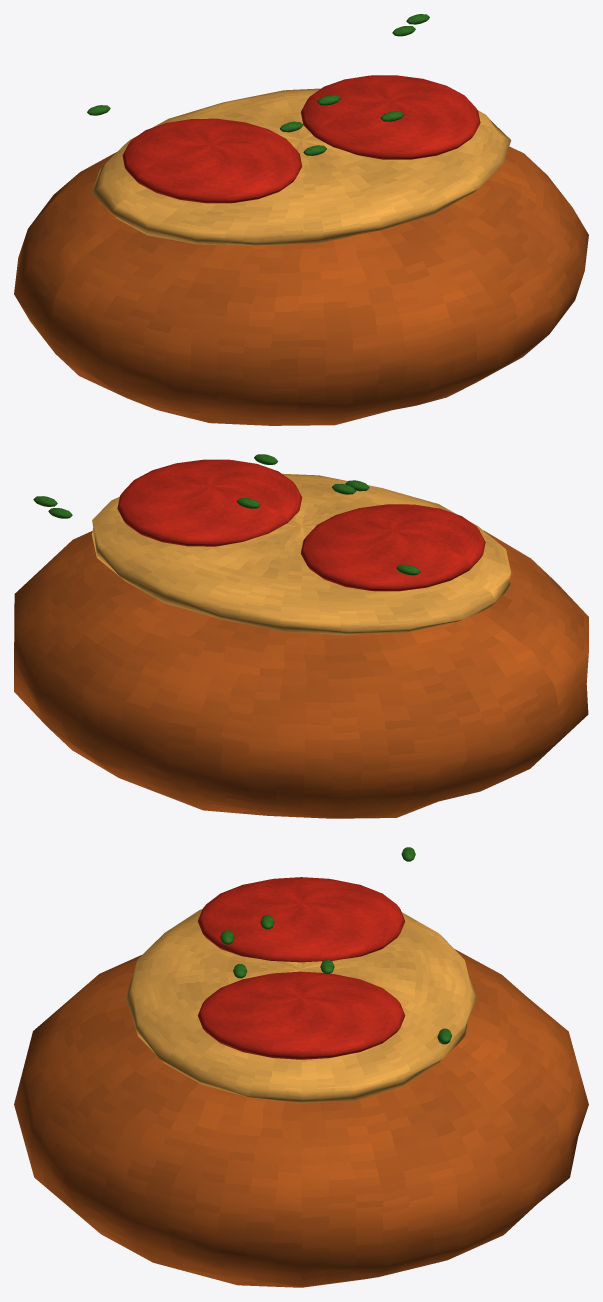
The model's file is bread_tomato.glb.
3 renders of one model, top to bottom at view 1: azimuth 30°, elevation 25°; view 2: azimuth 150°, elevation 25°; view 3: azimuth 270°, elevation 25°, orthographic. The views are drawn at different scales.
Visible parts, largest first — view 1: ふっくらした生地, 具材を載せるくぼみ, トマトの輪切り, トマトの輪切り.001; view 2: ふっくらした生地, 具材を載せるくぼみ, トマトの輪切り, トマトの輪切り.001; view 3: ふっくらした生地, 具材を載せるくぼみ, トマトの輪切り.001, トマトの輪切り.
Boxes of the visible parts, x1,y1,x2,y2 form: ふっくらした生地: (14, 146, 588, 425); 具材を載せるくぼみ: (92, 88, 511, 245); トマトの輪切り: (122, 118, 302, 203); トマトの輪切り.001: (300, 75, 480, 159); ふっくらした生地: (14, 530, 588, 818); 具材を載せるくぼみ: (91, 473, 511, 635); トマトの輪切り: (300, 504, 485, 591); トマトの輪切り.001: (117, 459, 302, 546); ふっくらした生地: (14, 949, 588, 1287); 具材を載せるくぼみ: (126, 909, 476, 1103); トマトの輪切り.001: (197, 971, 405, 1059); トマトの輪切り: (197, 877, 405, 962).
Size of the model in its own units: 0.7929 by 0.4094 by 0.72.
4 materials, 4 textured.
